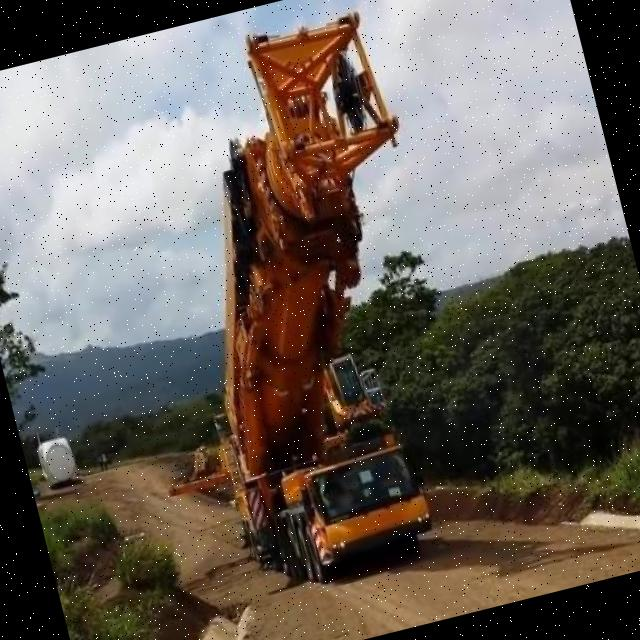Mobile Crane: (66, 6, 500, 606)
